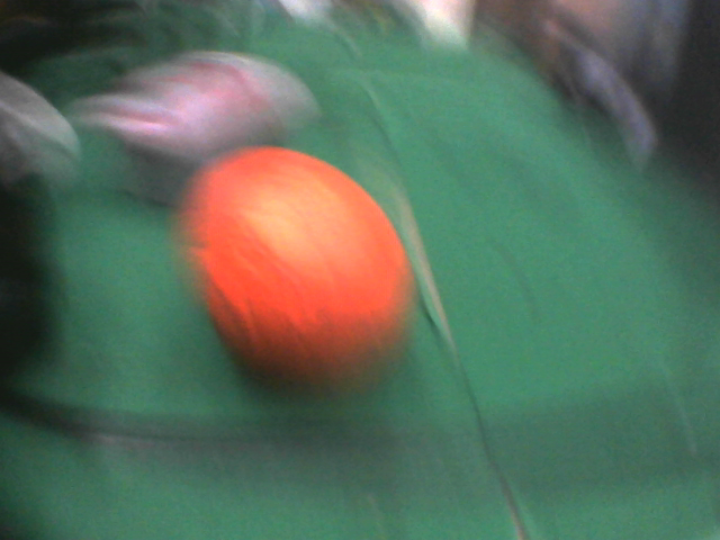bola: (163, 134, 428, 399)
